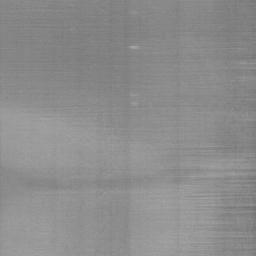Waist folding: (34, 142, 256, 192), (96, 83, 191, 129), (199, 205, 256, 253), (0, 107, 82, 119), (225, 58, 256, 70), (102, 8, 137, 16), (88, 248, 122, 252), (212, 110, 256, 113), (128, 43, 140, 51)
